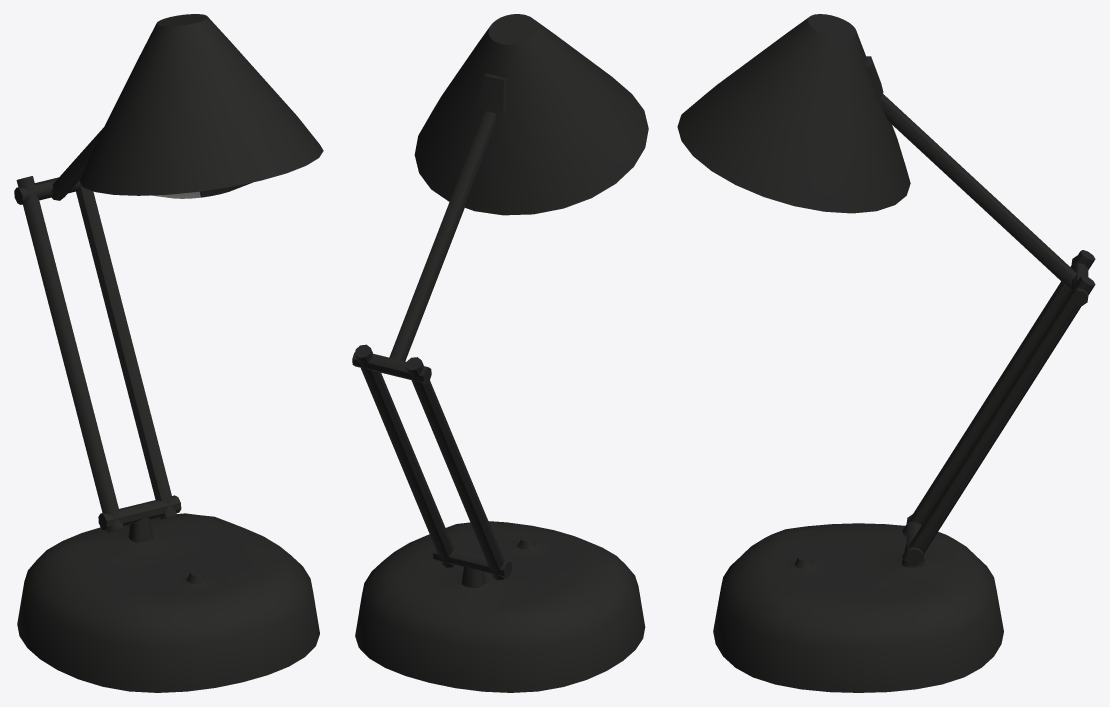
The model's file is Lamp 2.FBX.
3 views of the same model, side by side, from view 1: azimuth 30°, elevation 25°; view 2: azimuth 150°, elevation 25°; view 3: azimuth 270°, elevation 25° (orthographic). The views are drawn at different scales.
Visible parts, largest first — view 1: Lamp, Bulb; view 2: Lamp; view 3: Lamp.
Boxes of the visible parts, left/top/right/bottom form: Lamp: left=14, top=14, right=323, bottom=692; Bulb: left=151, top=182, right=252, bottom=198; Lamp: left=352, top=14, right=648, bottom=692; Lamp: left=677, top=14, right=1095, bottom=692.
Bounding box in the file's own units: 7.15 × 16.61 × 10.28.
